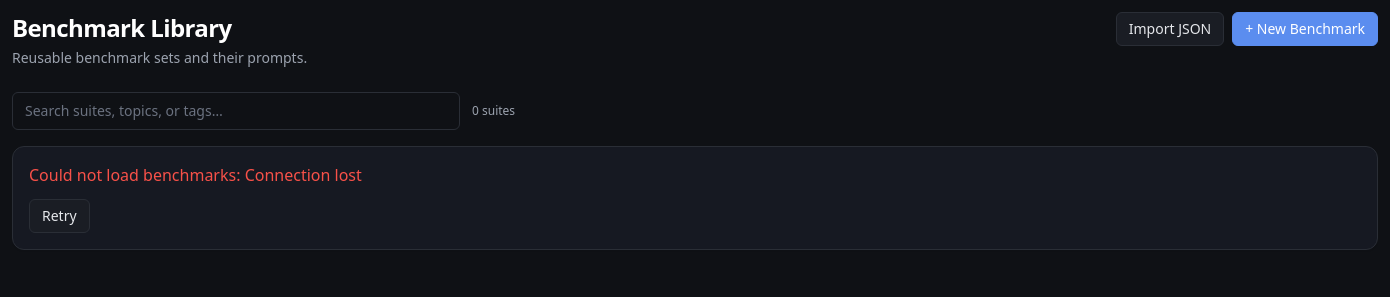
Benchmark library › distinguishes request failure from an empty library and retries
Expected: the message shows "Connection lost", top-left (245, 164), bottom-right (362, 186)
Expected: the text "No benchmarks" is not shown
Click the button "Retry".
click(59, 216)  # box top-left (29, 199), bottom-right (90, 233)
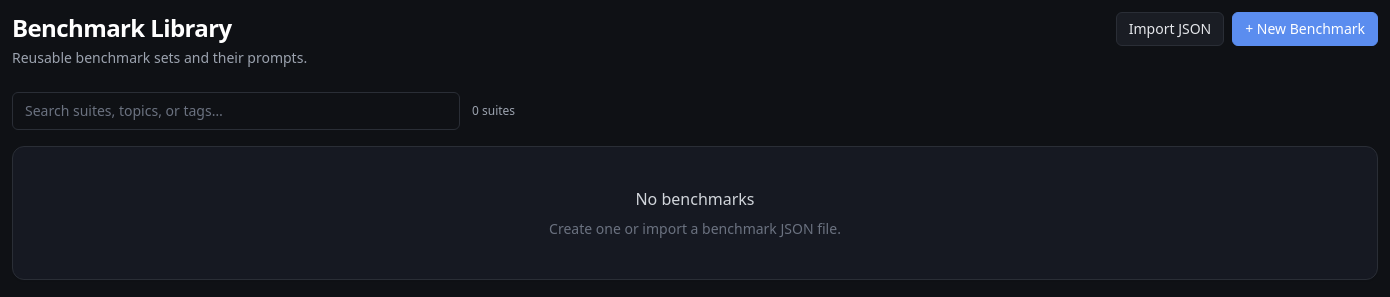
Expected: the text "No benchmarks" is shown, top-left (636, 188), bottom-right (755, 210)
